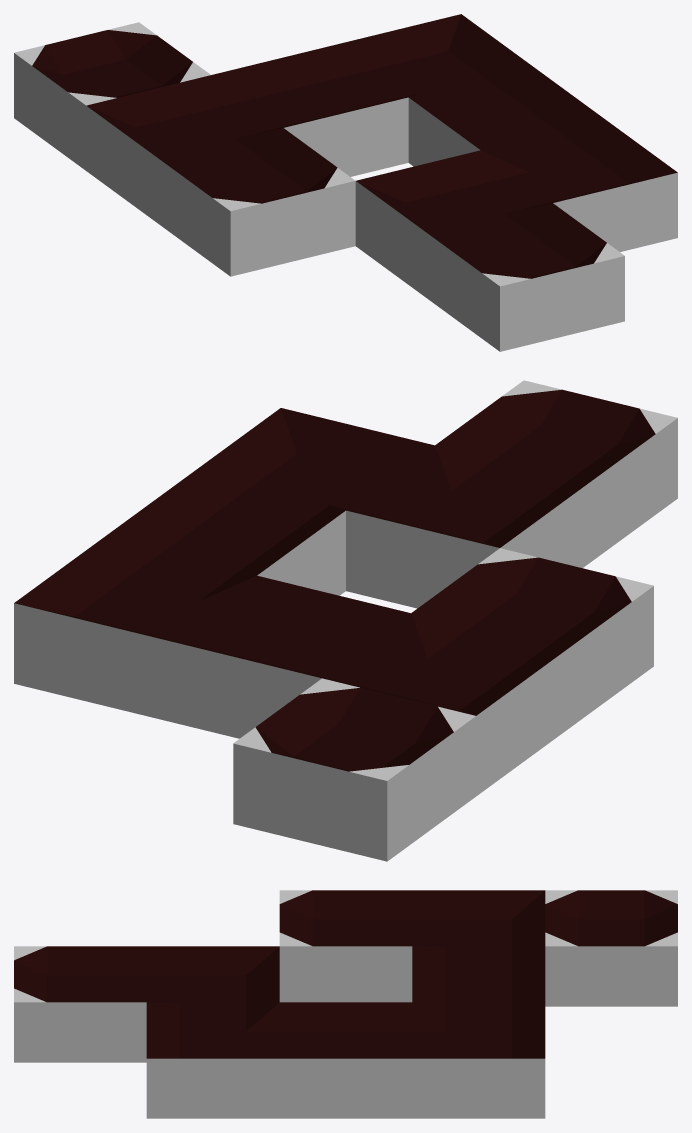
Rendered from 67f_path.obj.
The picture shows the model from 3 angles, top to bottom: view 1: azimuth 30°, elevation 25°; view 2: azimuth 150°, elevation 25°; view 3: azimuth 270°, elevation 25°; orthographic projection. The views are drawn at different scales.
Visible parts, largest first — view 1: foil.ending.0.2_ending.567, foil.ending.1.0_ending.568, foil.through.1.3_through.292, foil.corner.0.3_corner.1408, foil.corner.1.1_corner.1409, foil.corner.2.1_corner.1410, foil.hole.0.4_Cube.285, foil.through.2.2_through.293, foil.corner.2.3_corner.1411; view 2: foil.hole.0.4_Cube.285, foil.corner.2.3_corner.1411, foil.ending.1.0_ending.568, foil.ending.0.2_ending.567, foil.corner.1.1_corner.1409, foil.through.1.3_through.292, foil.through.2.2_through.293, foil.corner.2.1_corner.1410, foil.corner.0.3_corner.1408; view 3: foil.through.2.2_through.293, foil.hole.0.4_Cube.285, foil.ending.1.0_ending.568, foil.ending.0.2_ending.567, foil.corner.2.1_corner.1410, foil.corner.2.3_corner.1411, foil.corner.1.1_corner.1409, foil.corner.0.3_corner.1408, foil.through.1.3_through.292.
Part boxes in pixels (x1=…): foil.ending.0.2_ending.567: x1=158, y1=128, x2=355, y2=276; foil.ending.1.0_ending.568: x1=428, y1=203, x2=624, y2=351; foil.through.1.3_through.292: x1=211, y1=44, x2=408, y2=176; foil.corner.0.3_corner.1408: x1=86, y1=75, x2=282, y2=223; foil.corner.1.1_corner.1409: x1=355, y1=150, x2=552, y2=298; foil.corner.2.1_corner.1410: x1=481, y1=120, x2=677, y2=251; foil.hole.0.4_Cube.285: x1=14, y1=22, x2=210, y2=170; foil.through.2.2_through.293: x1=408, y1=67, x2=605, y2=166; foil.corner.2.3_corner.1411: x1=336, y1=14, x2=532, y2=105; foil.hole.0.4_Cube.285: x1=233, y1=678, x2=476, y2=861; foil.corner.2.3_corner.1411: x1=14, y1=538, x2=256, y2=721; foil.ending.1.0_ending.568: x1=435, y1=380, x2=677, y2=563; foil.ending.0.2_ending.567: x1=411, y1=548, x2=653, y2=730; foil.corner.1.1_corner.1409: x1=346, y1=445, x2=588, y2=608; foil.through.1.3_through.292: x1=168, y1=575, x2=410, y2=738; foil.through.2.2_through.293: x1=103, y1=473, x2=345, y2=595; foil.corner.2.1_corner.1410: x1=192, y1=408, x2=434, y2=521; foil.corner.0.3_corner.1408: x1=324, y1=613, x2=565, y2=795; foil.through.2.2_through.293: x1=279, y1=1002, x2=412, y2=1118; foil.hole.0.4_Cube.285: x1=545, y1=890, x2=677, y2=1006; foil.ending.1.0_ending.568: x1=14, y1=946, x2=146, y2=1062; foil.ending.0.2_ending.567: x1=279, y1=890, x2=412, y2=1002; foil.corner.2.1_corner.1410: x1=146, y1=1002, x2=279, y2=1118; foil.corner.2.3_corner.1411: x1=412, y1=1002, x2=545, y2=1118; foil.corner.1.1_corner.1409: x1=146, y1=946, x2=279, y2=1017; foil.corner.0.3_corner.1408: x1=412, y1=890, x2=545, y2=961; foil.through.1.3_through.292: x1=412, y1=946, x2=545, y2=1017.
Size of the model in its own units: 6 by 1 by 10.
